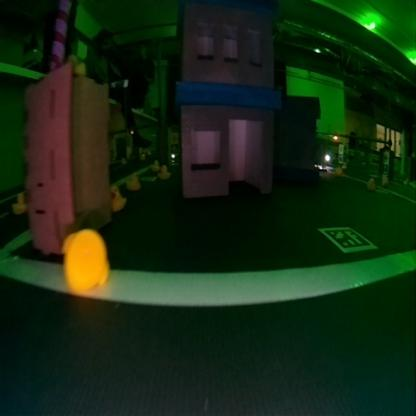Duckie: (63, 233, 107, 289), (110, 184, 126, 210), (12, 192, 23, 213), (126, 172, 139, 189), (160, 165, 166, 176), (366, 178, 372, 188), (381, 175, 386, 186), (336, 166, 340, 174), (153, 160, 158, 166)
QR code: (322, 225, 370, 250)
